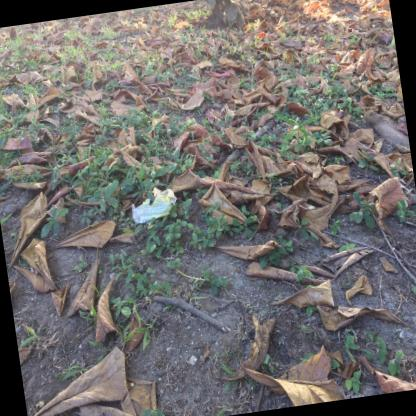Plastic: (131, 186, 177, 224)
